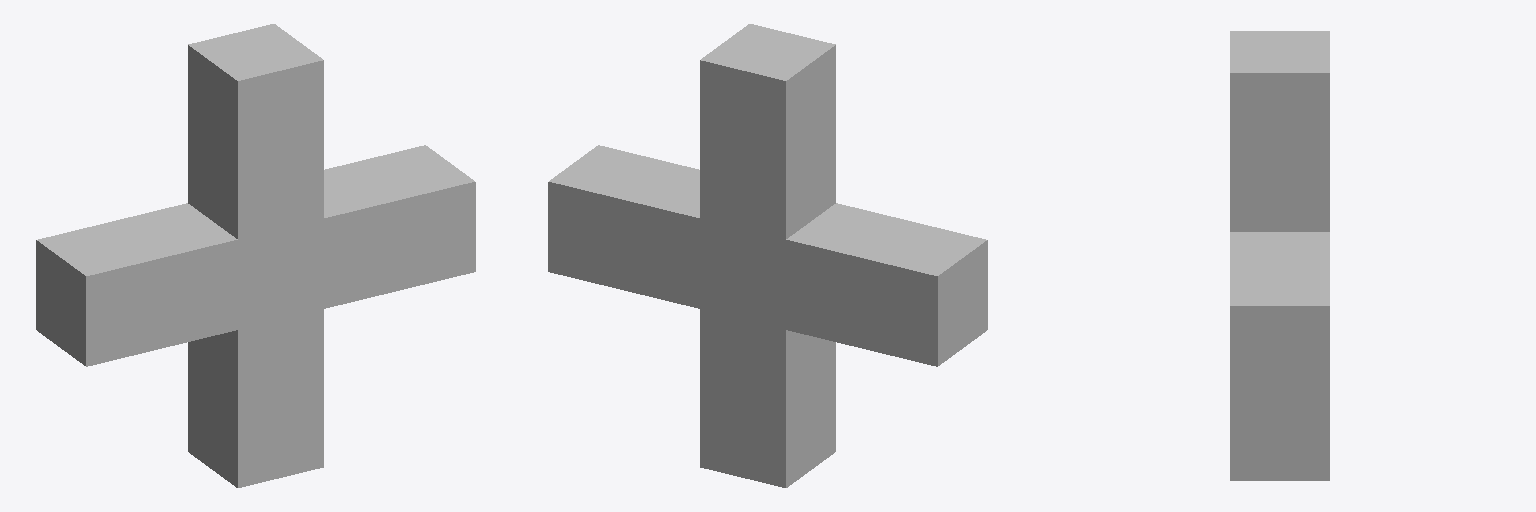
Rendered from Health.obj.
3 renders of one model, left to right at view 1: azimuth 30°, elevation 25°; view 2: azimuth 150°, elevation 25°; view 3: azimuth 270°, elevation 25°, orthographic.
Visible parts, largest first — view 1: group[number redacted], group[number redacted]; view 2: group[number redacted], group[number redacted]; view 3: group[number redacted], group[number redacted].
Boxes of the visible parts, <box> form: group[number redacted]: <box>188,24,323,487</box>; group[number redacted]: <box>36,145,475,366</box>; group[number redacted]: <box>548,145,987,366</box>; group[number redacted]: <box>700,24,835,487</box>; group[number redacted]: <box>1230,31,1329,480</box>; group[number redacted]: <box>1230,232,1329,395</box>.
Size of the model in its own units: 0.18 by 0.18 by 0.04.